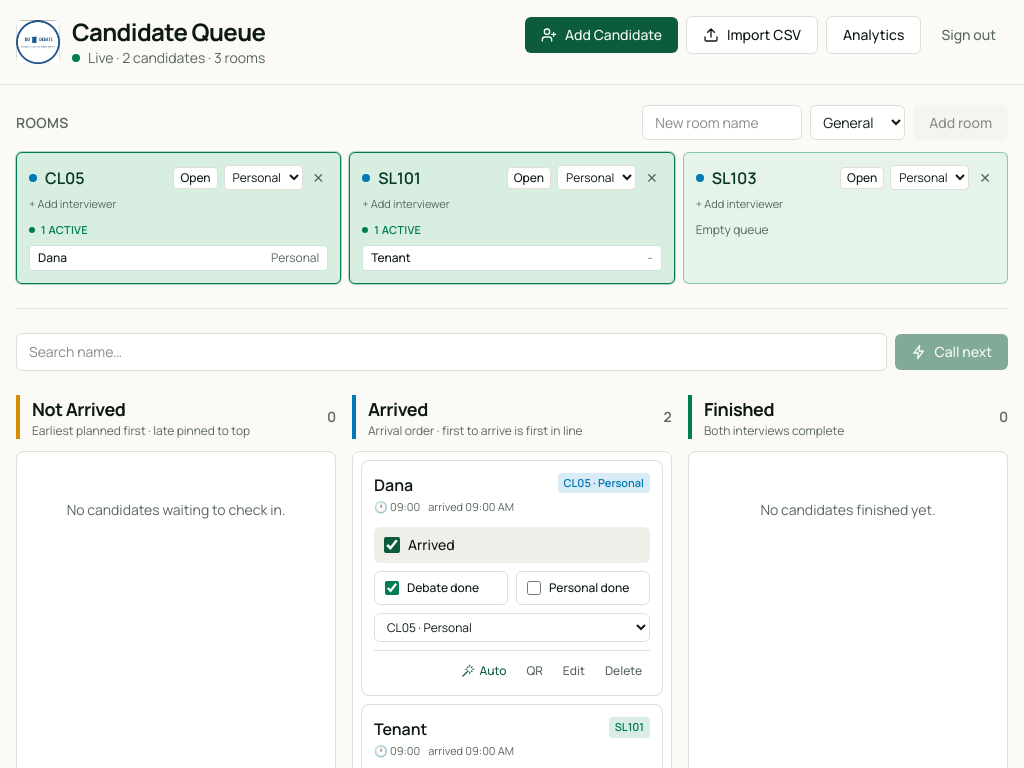
Test: Auto-Assign — the load-balancing decision, end to end › does not count the candidate who is being moved, so their own room can win
The image size is (1024, 768).
Click the button with aria-label "Auto-assign" at point(484, 671), box [454,659,514,683]
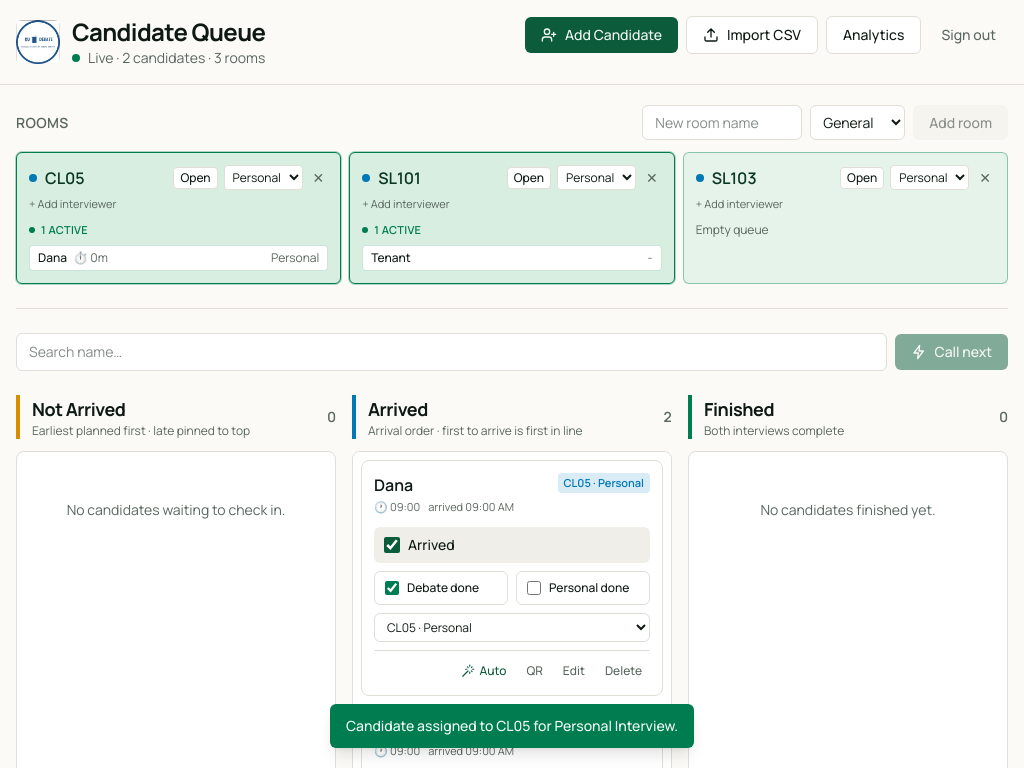
Expected: the button "Candidate assigned to CL05 for Personal Interview." is shown, [330,704,694,748]
